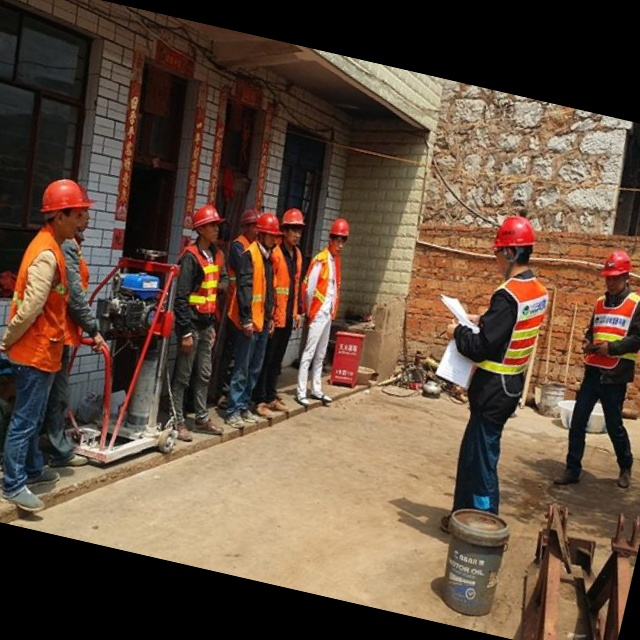Con_Chaleco: (0, 225, 82, 372), (470, 269, 555, 398), (229, 242, 289, 339), (577, 289, 640, 380), (162, 243, 230, 326), (299, 247, 354, 330)
